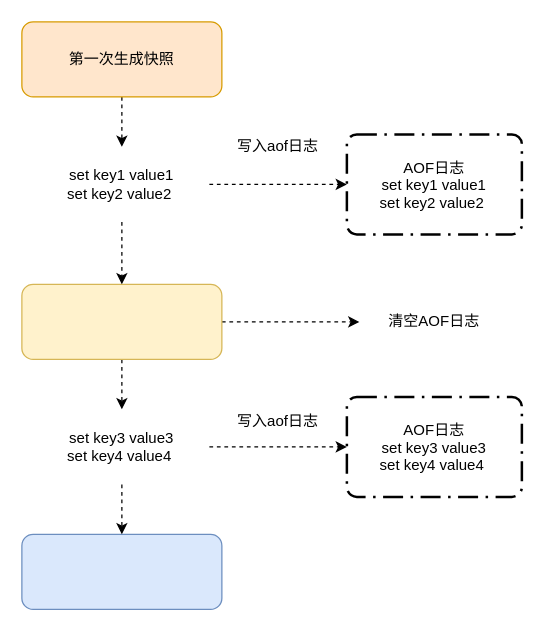
The diagram is 545 pixels wide and 631 high, and some of its shapes have lost their labels. The shapes that lost their labels are listed below. From the top down, each one's box as (x1, y1, x2, y2) in pixels, then its label:
(21, 283, 222, 359): 第二次生成快照
(21, 533, 222, 609): 第三次生成快照
